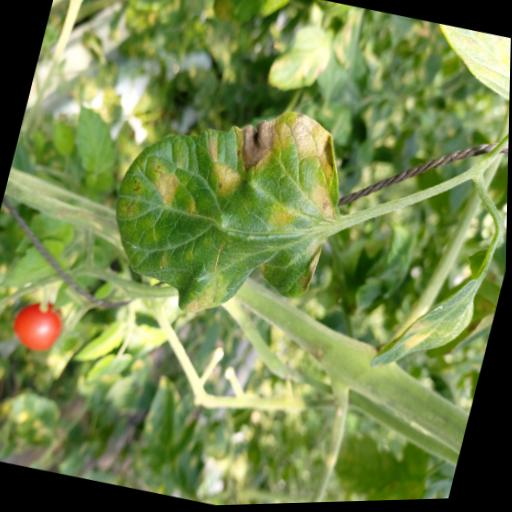Leaf Mold: (91, 74, 366, 345), (369, 263, 485, 390)
